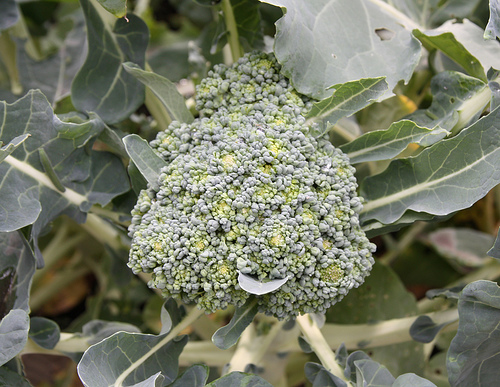broccoli: (125, 51, 377, 318)
